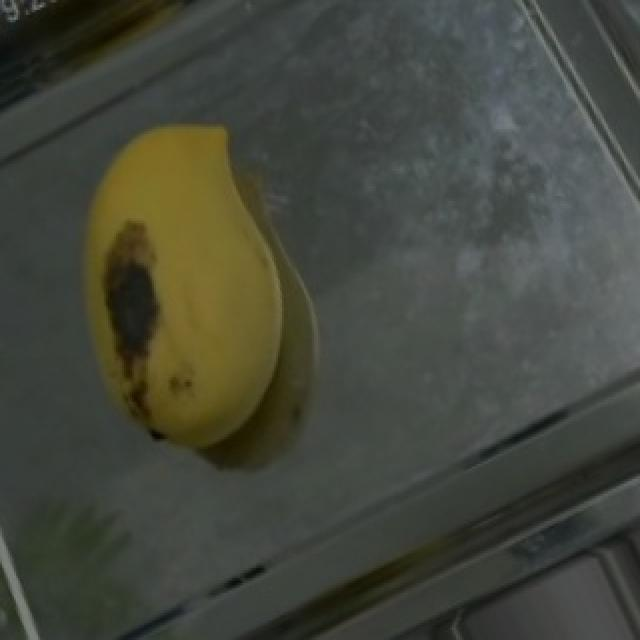fruit: (32, 72, 390, 486)
